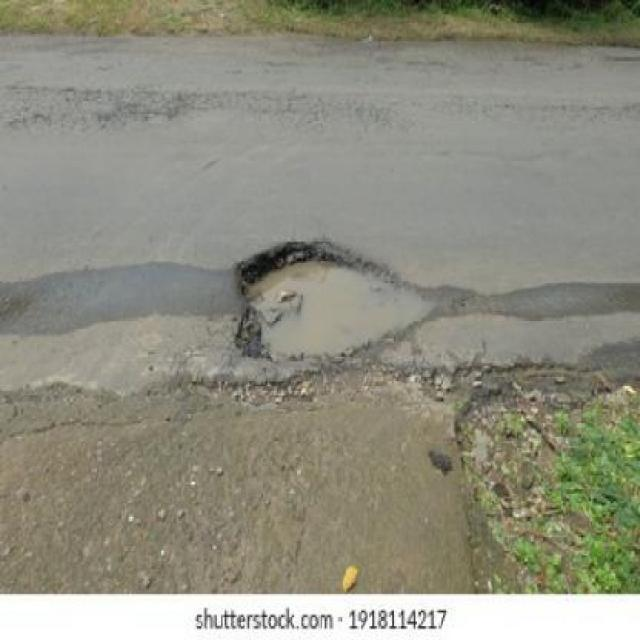Buraco: (229, 237, 448, 377)
